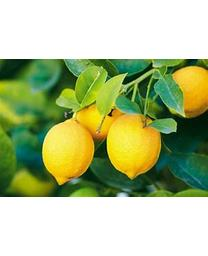lemon: (107, 112, 161, 176), (43, 120, 94, 184), (168, 66, 207, 120)
